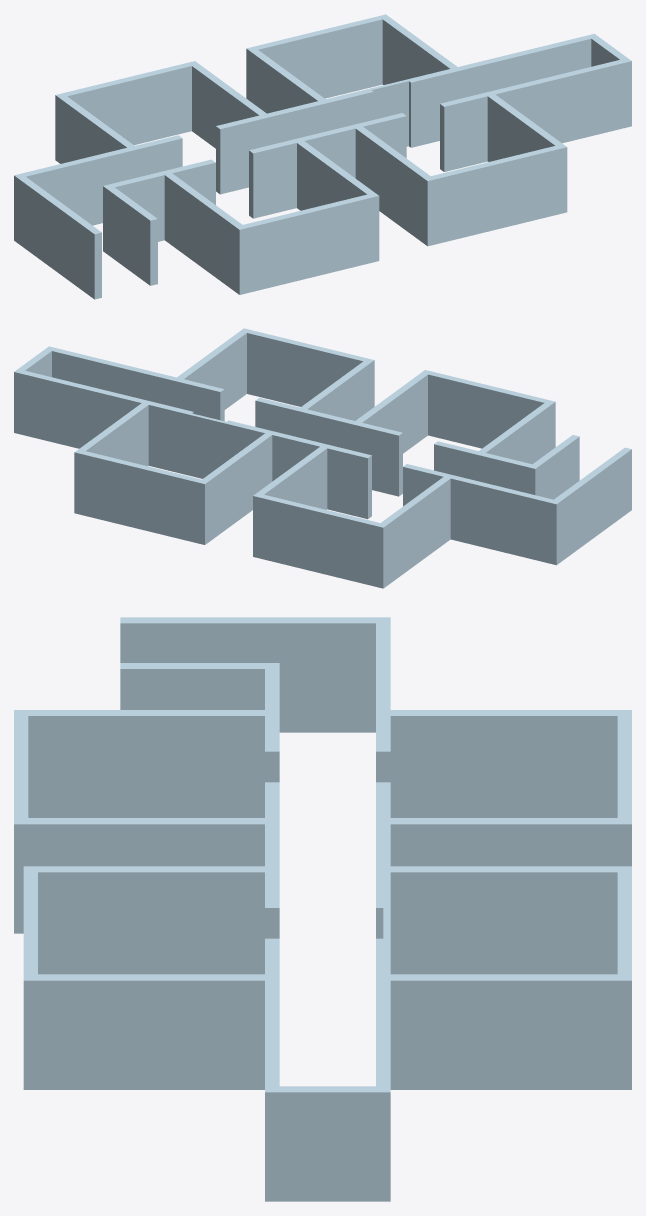
Rendered from mundo_prohibido.dae.
The picture shows the model from 3 angles, top to bottom: view 1: azimuth 30°, elevation 25°; view 2: azimuth 150°, elevation 25°; view 3: azimuth 270°, elevation 25°; orthographic projection. The views are drawn at different scales.
Visible parts, largest first — view 1: mesh4, mesh36, mesh40, mesh42, mesh12, mesh1, mesh60, mesh9, mesh53, mesh56, mesh35, mesh39 (+17 smaller); view 2: mesh4, mesh50, mesh46, mesh52, mesh44, mesh3, mesh26, mesh18, mesh22, mesh53, mesh14, mesh51 (+12 smaller); view 3: mesh4, mesh45, mesh41, mesh27, mesh0, mesh19, mesh59, mesh55, mesh43, mesh37, mesh49, mesh33.
Part boxes in pixels (x1=…): mesh4: x1=14, y1=14, x2=631, y2=234; mesh36: x1=239, y1=196, x2=379, y2=294; mesh40: x1=427, y1=147, x2=567, y2=246; mesh42: x1=495, y1=61, x2=631, y2=143; mesh12: x1=411, y1=39, x2=591, y2=147; mesh1: x1=258, y1=19, x2=382, y2=98; mesh60: x1=67, y1=66, x2=191, y2=145; mesh9: x1=220, y1=92, x2=373, y2=194; mesh53: x1=14, y1=175, x2=94, y2=299; mesh56: x1=26, y1=138, x2=182, y2=225; mesh35: x1=164, y1=175, x2=239, y2=294; mesh39: x1=355, y1=129, x2=427, y2=245; mesh4: x1=14, y1=328, x2=631, y2=527; mesh50: x1=253, y1=496, x2=383, y2=588; mesh46: x1=74, y1=452, x2=204, y2=544; mesh52: x1=450, y1=478, x2=556, y2=565; mesh44: x1=14, y1=372, x2=141, y2=448; mesh3: x1=148, y1=405, x2=264, y2=478; mesh26: x1=428, y1=374, x2=543, y2=448; mesh18: x1=247, y1=333, x2=362, y2=406; mesh22: x1=255, y1=400, x2=398, y2=496; mesh53: x1=556, y1=449, x2=631, y2=564; mesh14: x1=52, y1=351, x2=220, y2=419; mesh51: x1=383, y1=479, x2=450, y2=588; mesh4: x1=14, y1=617, x2=631, y2=1092; mesh45: x1=390, y1=980, x2=631, y2=1089; mesh41: x1=23, y1=980, x2=264, y2=1089; mesh27: x1=28, y1=716, x2=264, y2=817; mesh0: x1=390, y1=872, x2=617, y2=974; mesh19: x1=38, y1=872, x2=264, y2=974; mesh59: x1=390, y1=716, x2=617, y2=817; mesh55: x1=120, y1=623, x2=375, y2=732; mesh43: x1=265, y1=1092, x2=390, y2=1201; mesh37: x1=14, y1=824, x2=264, y2=933; mesh49: x1=390, y1=824, x2=631, y2=866; mesh33: x1=120, y1=669, x2=264, y2=709.
Bounding box in the file's own units: 0.2329 × 0.128 × 0.025.
